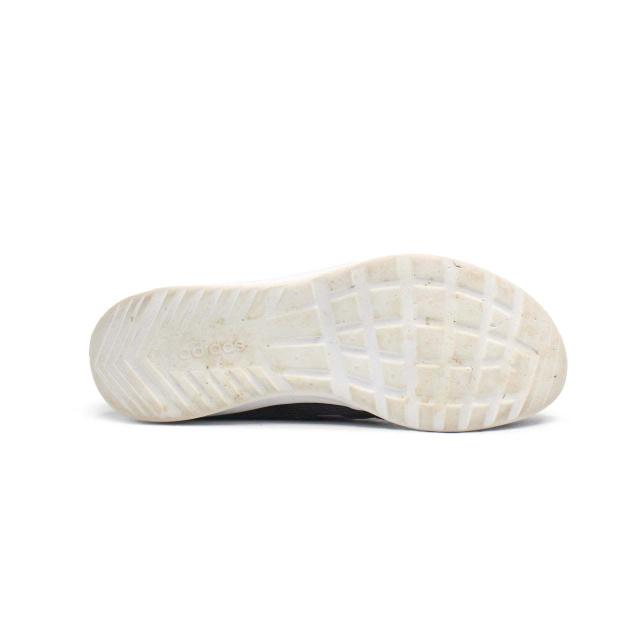outersole: (89, 254, 567, 430)
